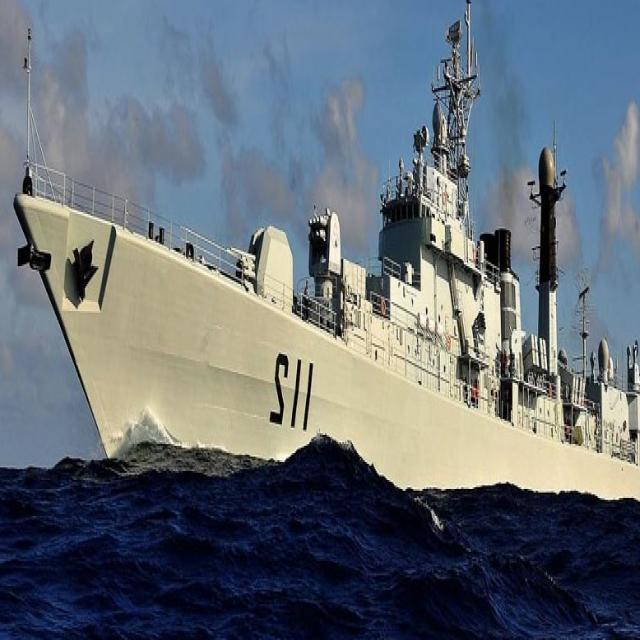navalvessels: (13, 0, 640, 557)
